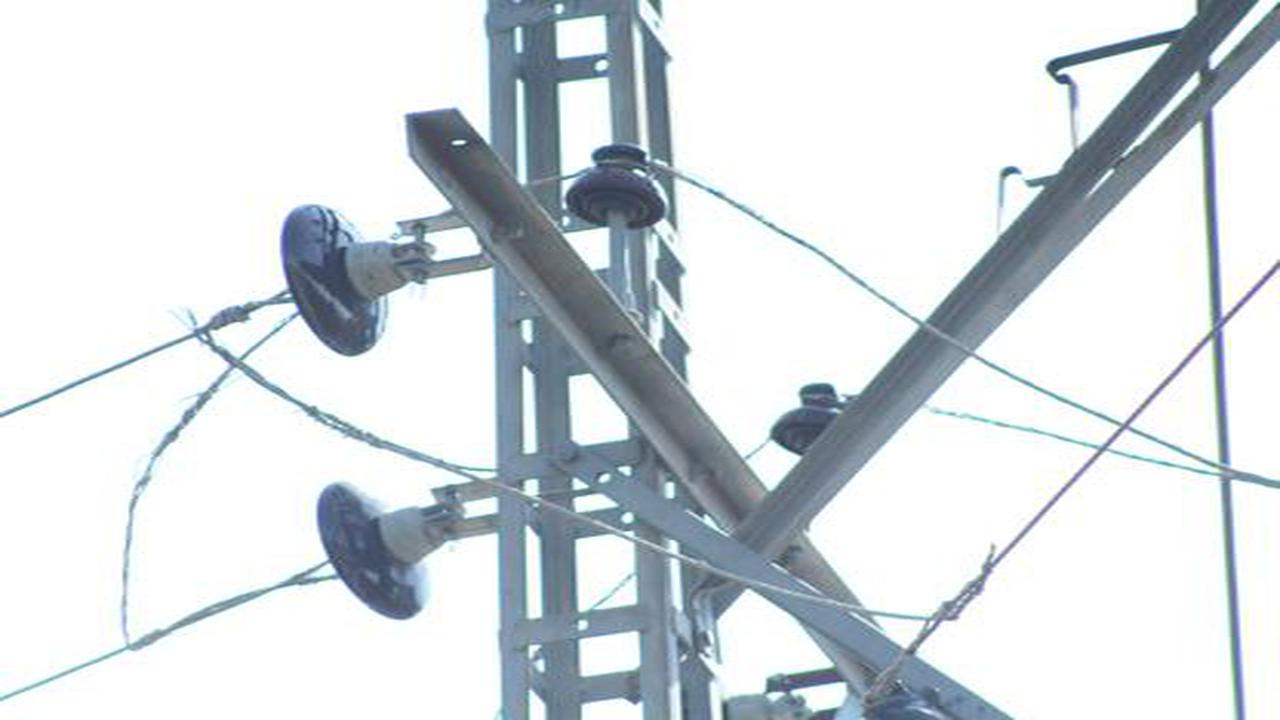insulator_disc: (274, 198, 436, 366), (308, 468, 472, 629)
insulator_pin: (561, 139, 673, 229), (761, 375, 863, 448)
